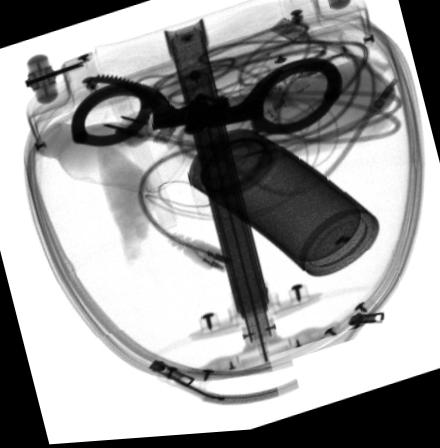HandCuffs: (69, 60, 346, 147)
